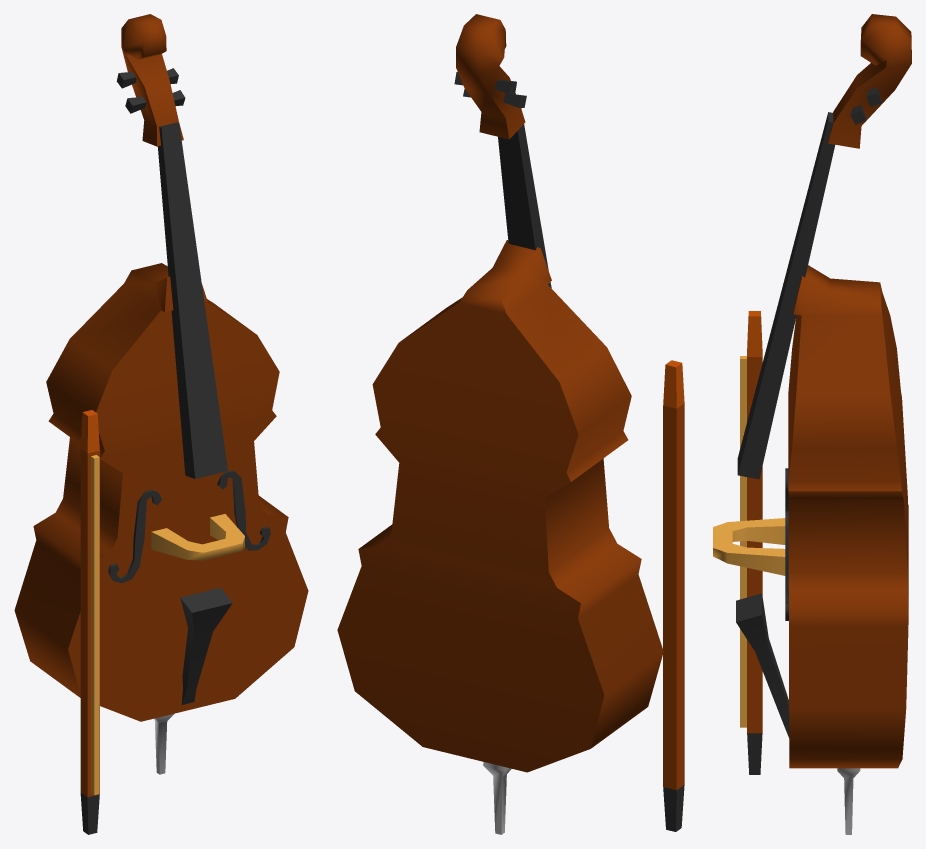
The model's file is Violin.fbx.
3 renders of one model, left to right at view 1: azimuth 30°, elevation 25°; view 2: azimuth 150°, elevation 25°; view 3: azimuth 270°, elevation 25°, orthographic. The views are drawn at different scales.
Parts seen in each view (by area): view 1: Violin; view 2: Violin; view 3: Violin.
Part boxes in pixels (x1=…): Violin: x1=14, y1=14, x2=308, y2=834; Violin: x1=337, y1=14, x2=684, y2=834; Violin: x1=713, y1=14, x2=911, y2=834.
Bounding box in the file's own units: 138 × 408 × 90.29.
